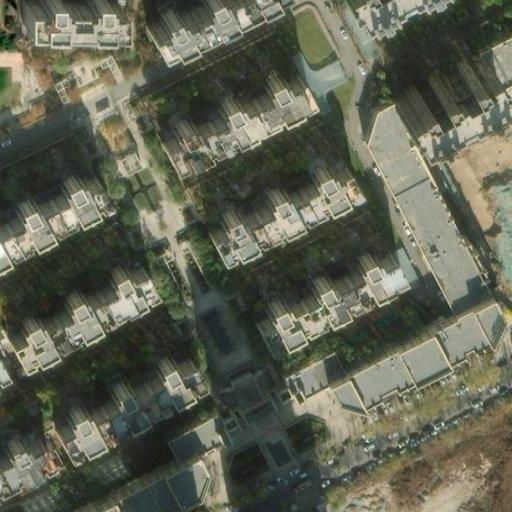building: (355, 94, 486, 320), (157, 347, 339, 465), (322, 303, 495, 412), (246, 244, 394, 338), (198, 152, 345, 245), (151, 61, 297, 154), (0, 254, 143, 347), (43, 346, 189, 436), (381, 46, 484, 123), (0, 166, 97, 237), (80, 455, 200, 512), (134, 0, 225, 42), (469, 26, 512, 91), (13, 0, 112, 18), (114, 140, 142, 168)
